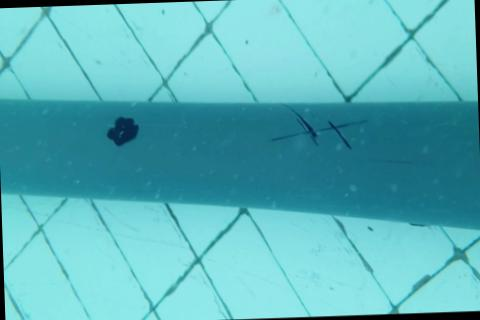kebocoran: (105, 115, 142, 150)
keretakan: (270, 102, 368, 153)
